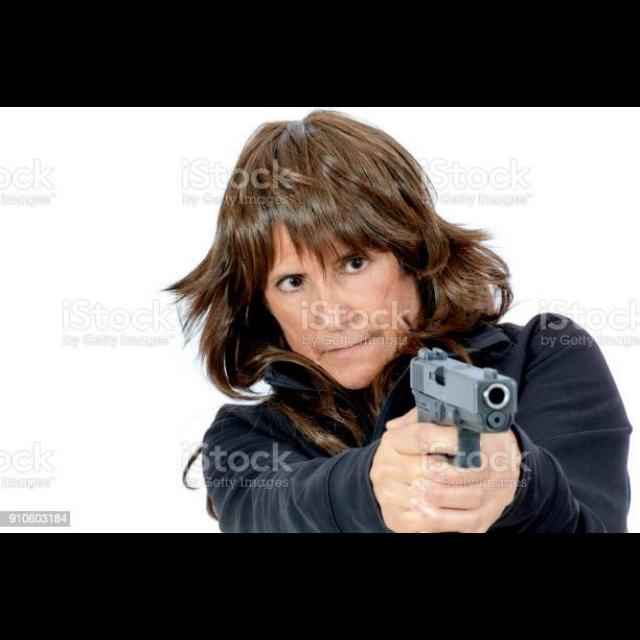handgun: (407, 344, 521, 472)
